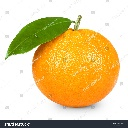orange: (31, 18, 122, 108)
